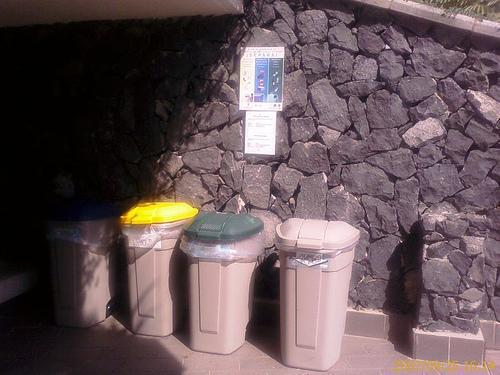Bote de Basura: (274, 217, 361, 372), (185, 211, 266, 356), (125, 203, 204, 341), (48, 197, 124, 329)
